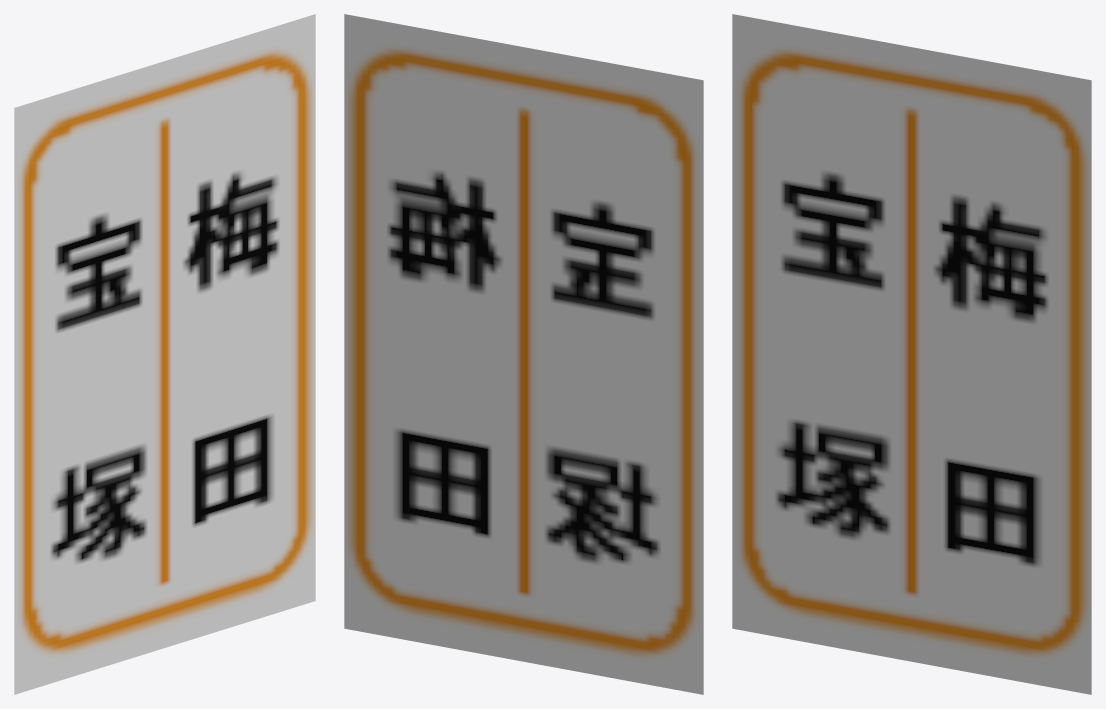
File: H2300_0_UMEDA.glb
3 views of the same model, side by side, from view 1: azimuth 30°, elevation 25°; view 2: azimuth 150°, elevation 25°; view 3: azimuth 330°, elevation 25° (orthographic). The views are drawn at different scales.
Parts seen in each view (by area): view 1: FRAME_ROOT; view 2: FRAME_ROOT; view 3: FRAME_ROOT.
Boxes of the visible parts, left/top/right/bottom form: FRAME_ROOT: left=14, top=14, right=315, bottom=694; FRAME_ROOT: left=344, top=14, right=703, bottom=694; FRAME_ROOT: left=732, top=14, right=1091, bottom=694.
Bounding box in the file's own units: 0.7325 × 1.27 × 0.0823.
Materials: 1 (1 with a texture image).
